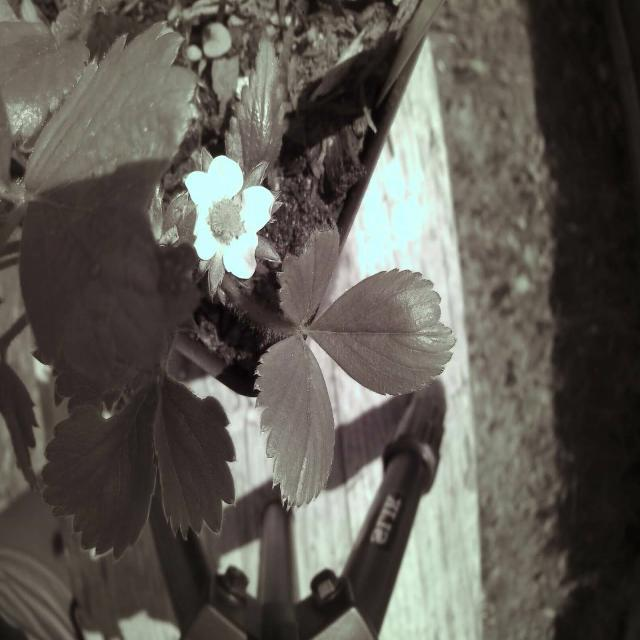flower: (180, 152, 280, 284)
